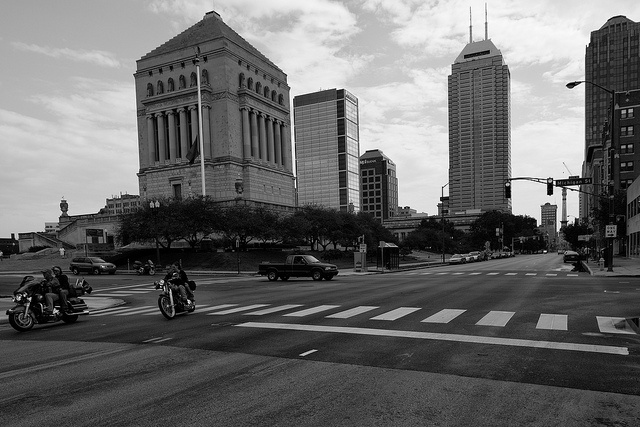non-vehicle: (5, 276, 89, 332), (155, 263, 200, 317), (132, 259, 155, 275)
